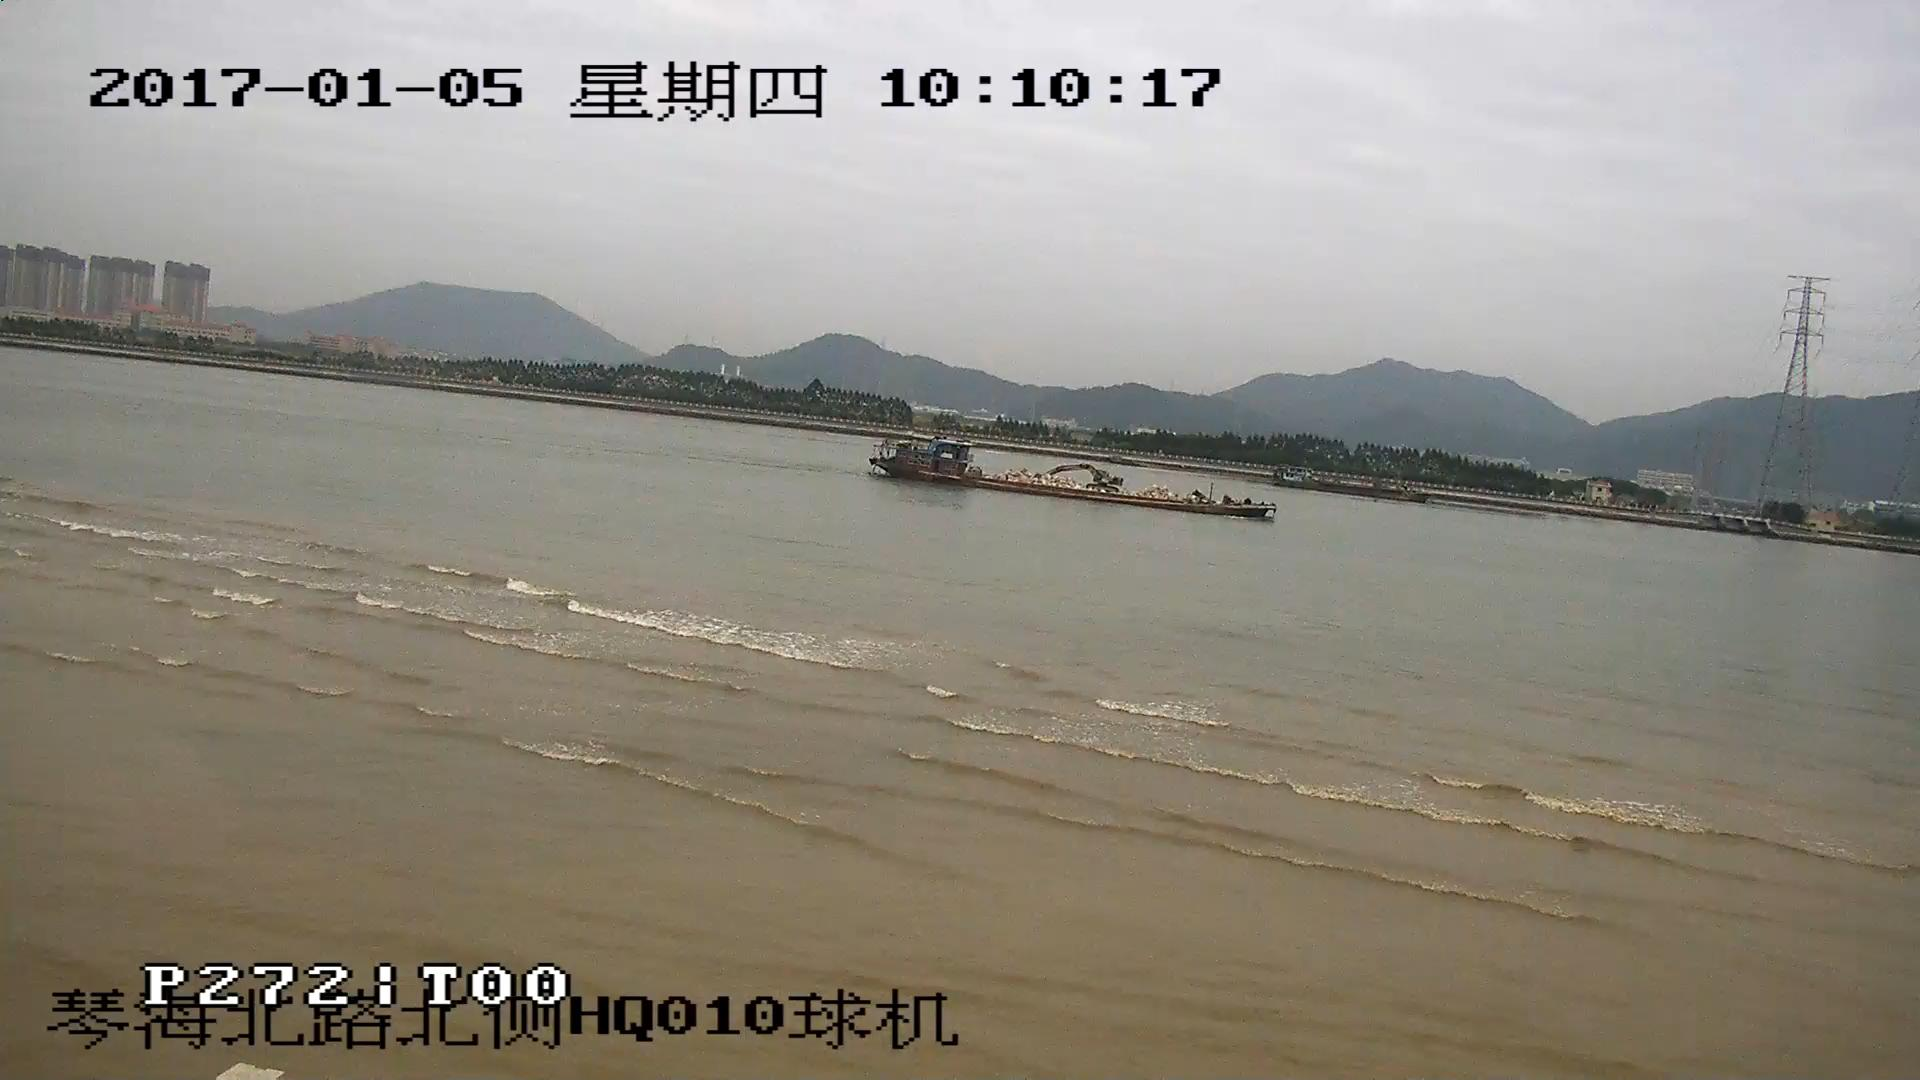bulk cargo carrier: (877, 429, 1267, 516)
